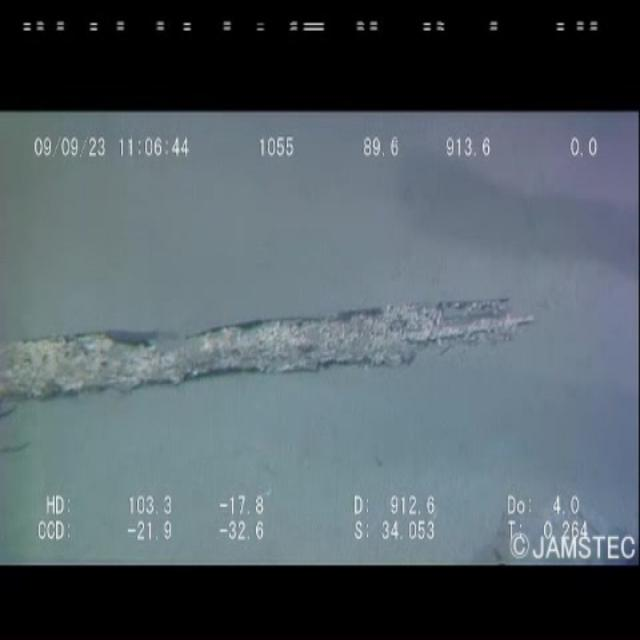Wood: (0, 245, 559, 447)
